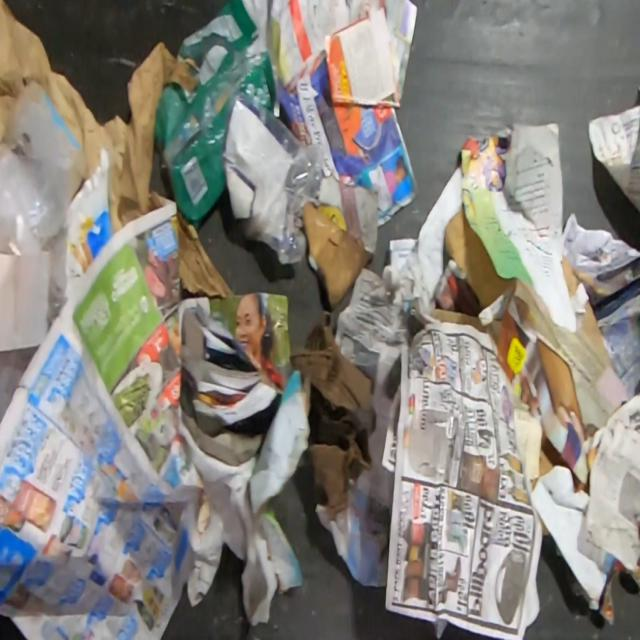cardboard: (290, 309, 374, 516), (302, 199, 376, 311), (443, 201, 518, 309), (534, 334, 602, 443), (560, 251, 616, 375)
soft_plastic: (155, 0, 281, 230), (0, 91, 87, 424), (221, 90, 326, 266)
